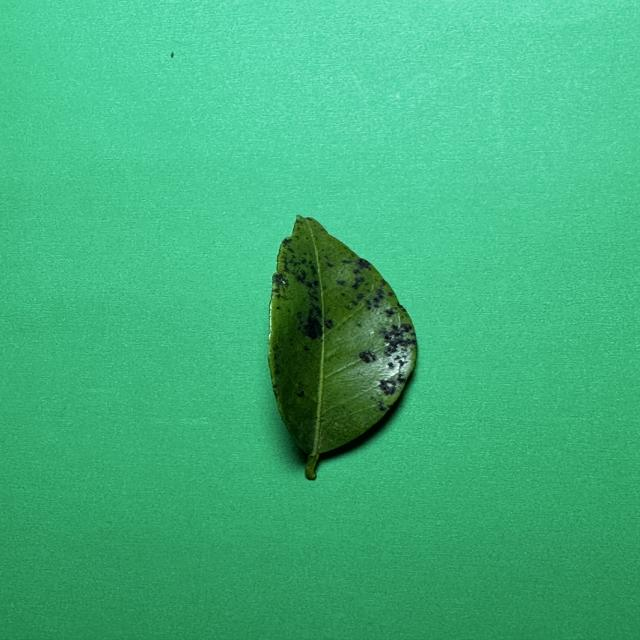sooty_mold: (269, 216, 417, 479)
